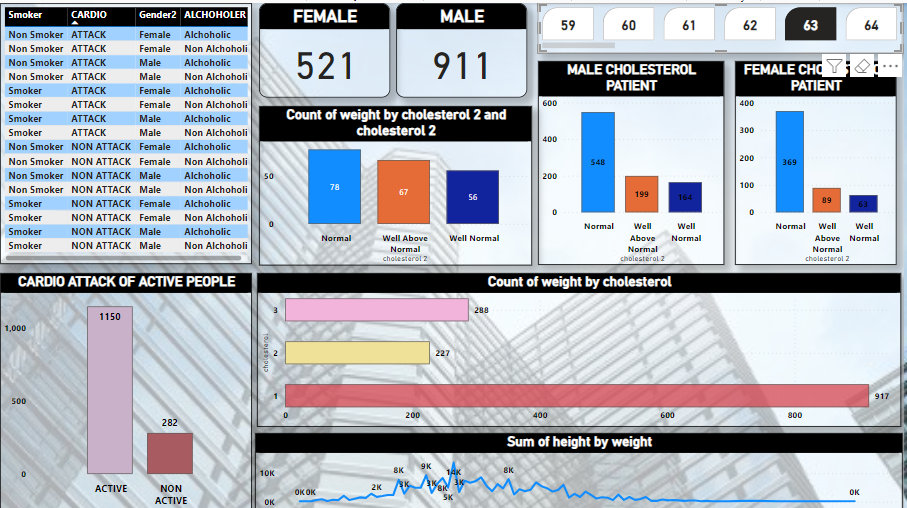

The page's visual inventory and layout, read from the dashboard file:
{"tool":"powerbi","page":{"name":"Page 1","canvas":[1280,720],"ordinal":0},"visuals":[{"type":"columnChart","title":"MALE CHOLESTEROL  PATIENT","fields":{"Y":["cardio_train.MALE"],"Category":["cardio_train.cholesterol 2"],"Series":["cardio_train.cholesterol 2"]},"box":[763.2,82.1,263.5,289.4],"z":0},{"type":"columnChart","title":"FEMALE CHOLESTEROL  PATIENT","fields":{"Category":["cardio_train.cholesterol 2"],"Series":["cardio_train.cholesterol 2"],"Y":["cardio_train.FEMALE"]},"box":[1041.1,82.1,229,289.4],"z":1000},{"type":"tableEx","fields":{"Values":["cardio_train.Smoker ","cardio_train.CARDIO ","cardio_train.Gender2","cardio_train.ALCHOHOLER  "]},"box":[0,0,357.2,369.9],"z":2000},{"type":"card","title":"FEMALE ","fields":{"Values":["cardio_train.FEMALE"]},"box":[367.2,0,185.8,133.9],"z":3000},{"type":"card","title":"MALE ","fields":{"Values":["cardio_train.MALE"]},"box":[561.6,0,185.8,133.9],"z":4000},{"type":"columnChart","fields":{"Category":["cardio_train.cholesterol 2"],"Y":["Count(cardio_train.weight)"],"Series":["cardio_train.cholesterol 2"]},"box":[367.2,145.4,387.4,226.1],"z":5000},{"type":"advancedSlicerVisual","fields":{"Values":["cardio_train.Age"]},"box":[763,0,517,70.6],"z":6000},{"type":"columnChart","title":"CARDIO ATTACK OF ACTIVE PEOPLE","fields":{"Category":["cardio_train.ACTIVE."],"Y":["CountNonNull(cardio_train.CARDIO )"]},"box":[0,383,357.1,337],"z":7000},{"type":"clusteredBarChart","fields":{"Category":["cardio_train.cholesterol"],"Y":["CountNonNull(cardio_train.weight)"]},"box":[364.3,382.7,912.8,218.3],"z":8000},{"type":"lineChart","fields":{"Y":["Sum(cardio_train.height)"],"Category":["cardio_train.weight"]},"box":[361.4,609.4,918.4,110.6],"z":9000}]}

Visuals, with their boxes in screenshot pixels (x1, y1, x2, y2), scaled from the page's 1280x720 canvas onto the 907x508 screenshot:
"MALE CHOLESTEROL  PATIENT" columnChart: pyautogui.locateOnScreen(541, 58, 728, 262)
"FEMALE CHOLESTEROL  PATIENT" columnChart: pyautogui.locateOnScreen(738, 58, 900, 262)
tableEx - cardio_train.Smoker  x cardio_train.CARDIO : pyautogui.locateOnScreen(0, 0, 253, 261)
"FEMALE " card: pyautogui.locateOnScreen(260, 0, 392, 94)
"MALE " card: pyautogui.locateOnScreen(398, 0, 530, 94)
columnChart - cardio_train.cholesterol 2 x Count(cardio_train.weight): pyautogui.locateOnScreen(260, 103, 535, 262)
advancedSlicerVisual - cardio_train.Age: pyautogui.locateOnScreen(541, 0, 906, 50)
"CARDIO ATTACK OF ACTIVE PEOPLE" columnChart: pyautogui.locateOnScreen(0, 270, 253, 507)
clusteredBarChart - cardio_train.cholesterol x CountNonNull(cardio_train.weight): pyautogui.locateOnScreen(258, 270, 905, 424)
lineChart - Sum(cardio_train.height) x cardio_train.weight: pyautogui.locateOnScreen(256, 430, 906, 507)
